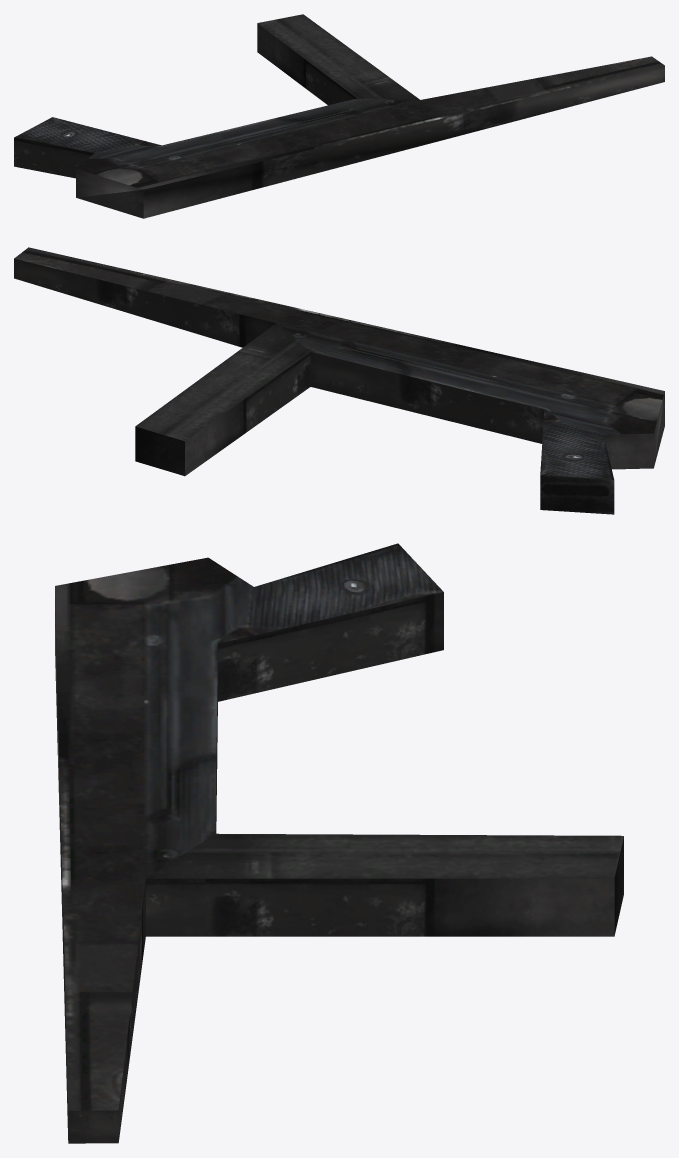
File: weapon_ger_mp40_smg_LOD21.obj
The picture shows the model from 3 angles, top to bottom: view 1: azimuth 30°, elevation 25°; view 2: azimuth 150°, elevation 25°; view 3: azimuth 270°, elevation 25°; orthographic projection. The views are drawn at different scales.
Visible parts, largest first — view 1: TomGroup_0; view 2: TomGroup_0; view 3: TomGroup_0.
Part boxes in pixels (<box>): TomGroup_0: <box>14,14,664,218</box>; TomGroup_0: <box>14,247,664,514</box>; TomGroup_0: <box>55,543,623,1143</box>.
Size of the model in its own units: 62.4 by 3.04 by 27.06.
1 material, 1 textured.
